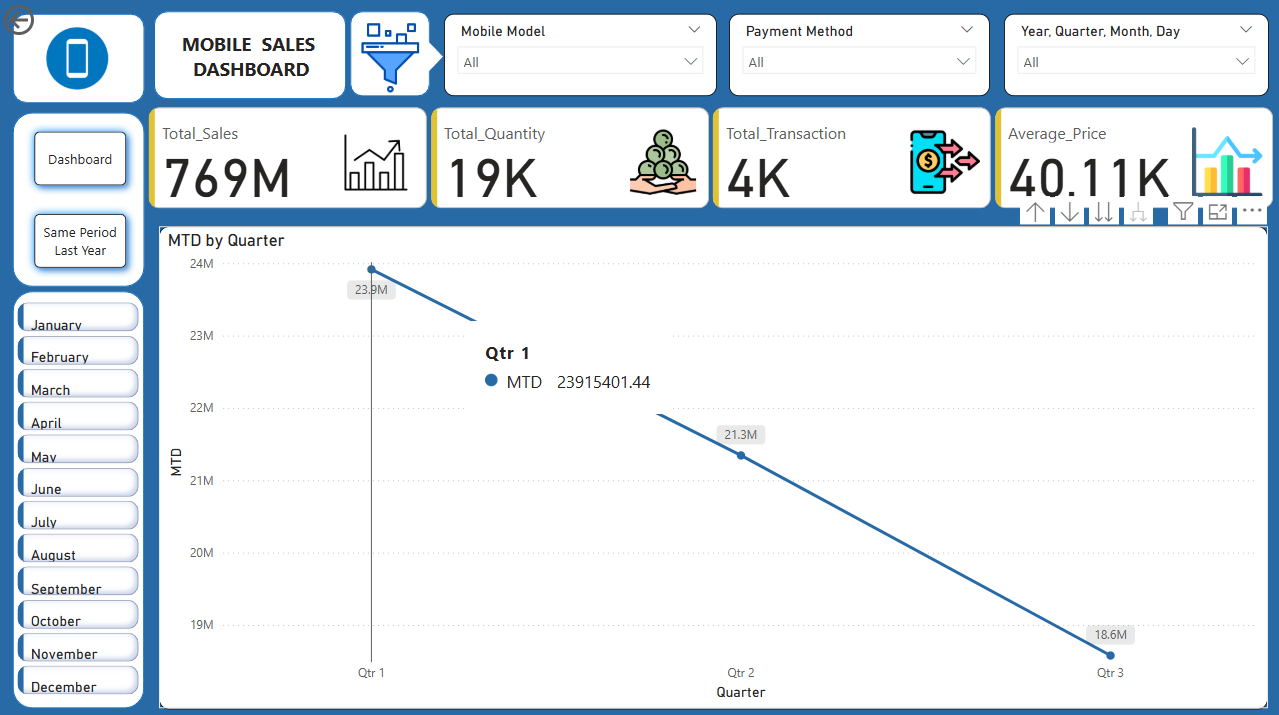

What the dashboard file says about the page in this screenshot:
{"tool":"powerbi","page":{"name":"MTD Report","canvas":[1280,720],"ordinal":1},"visuals":[{"type":"shape","box":[13.7,13.7,131.7,89.2],"z":0},{"type":"image","box":[26.1,20.6,104.3,76.8],"z":1000},{"type":"shape","box":[13.7,112.5,131.7,174.3],"z":2000},{"type":"cardVisual","fields":{"Data":["Sales_Data.Total_Sales","Sales_Data.Total_Quantity","Sales_Data.Total_Transaction","Sales_Data.Average_Price"]},"box":[145.5,102.9,1134.8,111.1],"z":3000},{"type":"slicer","fields":{"Values":["Sales_Data.Mobile Model"]},"box":[444.6,13.7,273.1,82.3],"z":4000},{"type":"slicer","fields":{"Values":["Sales_Data.Payment Method"]},"box":[730,13.7,260.7,82.3],"z":5000},{"type":"slicer","fields":{"Values":["Custom_Calendar.Date.Variation.Date Hierarchy.Year","Custom_Calendar.Date.Variation.Date Hierarchy.Quarter","Custom_Calendar.Date.Variation.Date Hierarchy.Month","Custom_Calendar.Date.Variation.Date Hierarchy.Day"]},"box":[1004.5,13.7,264.8,82.3],"z":6000},{"type":"shape","box":[351.3,11,79.6,85.1],"z":7000},{"type":"shape","box":[369.1,17.8,75.5,78.2],"z":8000},{"type":"image","box":[323.8,17.8,134.5,81],"z":9000},{"type":"shape","box":[155.1,11,192.1,87.8],"z":10000},{"type":"textbox","box":[166,26.1,171.5,60.4],"z":11000},{"type":"actionButton","box":[0,0,100,40],"z":12000},{"type":"lineChart","fields":{"Y":["Sales_Data.MTD"],"Category":["Custom_Calendar.Date.Variation.Date Hierarchy.Year","Custom_Calendar.Date.Variation.Date Hierarchy.Quarter","Custom_Calendar.Date.Variation.Date Hierarchy.Month","Custom_Calendar.Date.Variation.Date Hierarchy.Day"]},"box":[160,225.7,1108.6,482.9],"z":13000},{"type":"shape","box":[14.3,291.4,131.4,417.1],"z":14000},{"type":"pageNavigator","box":[25.7,122.9,110,154.3],"z":16000},{"type":"slicer","fields":{"Values":["Custom_Calendar.Date.Variation.Date Hierarchy.Month"]},"box":[15.7,296.8,130.3,404.2],"z":17001}]}

Visuals, with their boxes in screenshot pixels (x1, y1, x2, y2), scaled from the page's 1280x720 canvas onto the 1279x715 screenshot:
shape: <region>14, 14, 145, 102</region>
image: <region>26, 20, 130, 97</region>
shape: <region>14, 112, 145, 285</region>
cardVisual - Sales_Data.Total_Sales x Sales_Data.Total_Quantity: <region>145, 102, 1278, 213</region>
slicer - Sales_Data.Mobile Model: <region>444, 14, 717, 95</region>
slicer - Sales_Data.Payment Method: <region>729, 14, 990, 95</region>
slicer - Custom_Calendar.Date.Variation.Date Hierarchy.Year x Custom_Calendar.Date.Variation.Date Hierarchy.Quarter: <region>1004, 14, 1268, 95</region>
shape: <region>351, 11, 431, 95</region>
shape: <region>369, 18, 444, 95</region>
image: <region>324, 18, 458, 98</region>
shape: <region>155, 11, 347, 98</region>
textbox: <region>166, 26, 337, 86</region>
actionButton: <region>0, 0, 100, 40</region>
lineChart - Sales_Data.MTD x Custom_Calendar.Date.Variation.Date Hierarchy.Year: <region>160, 224, 1268, 704</region>
shape: <region>14, 289, 146, 704</region>
pageNavigator: <region>26, 122, 136, 275</region>
slicer - Custom_Calendar.Date.Variation.Date Hierarchy.Month: <region>16, 295, 146, 696</region>
